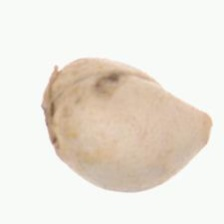L3: (141, 71, 204, 113)
L4: (41, 56, 212, 192)
